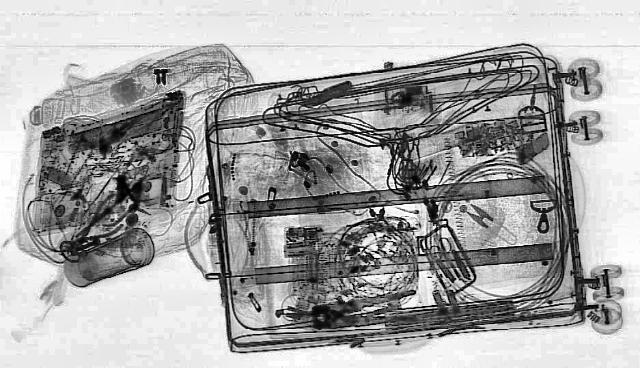Pliers: (303, 286, 439, 330)
